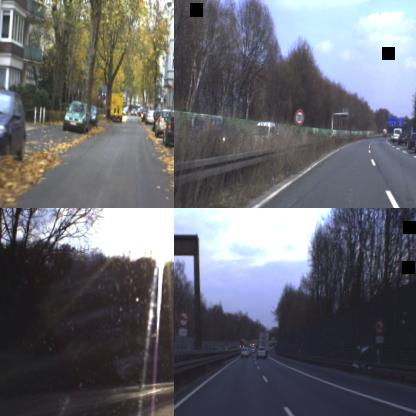STOP: (171, 78, 174, 90)
go right: (171, 91, 174, 101)
no overtaking: (176, 308, 190, 328), (374, 316, 386, 336)
speed limit 100: (294, 109, 304, 126)
